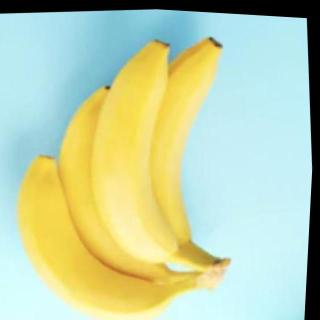banana: (47, 73, 186, 297), (8, 140, 180, 320), (120, 28, 243, 252), (77, 32, 190, 268)
